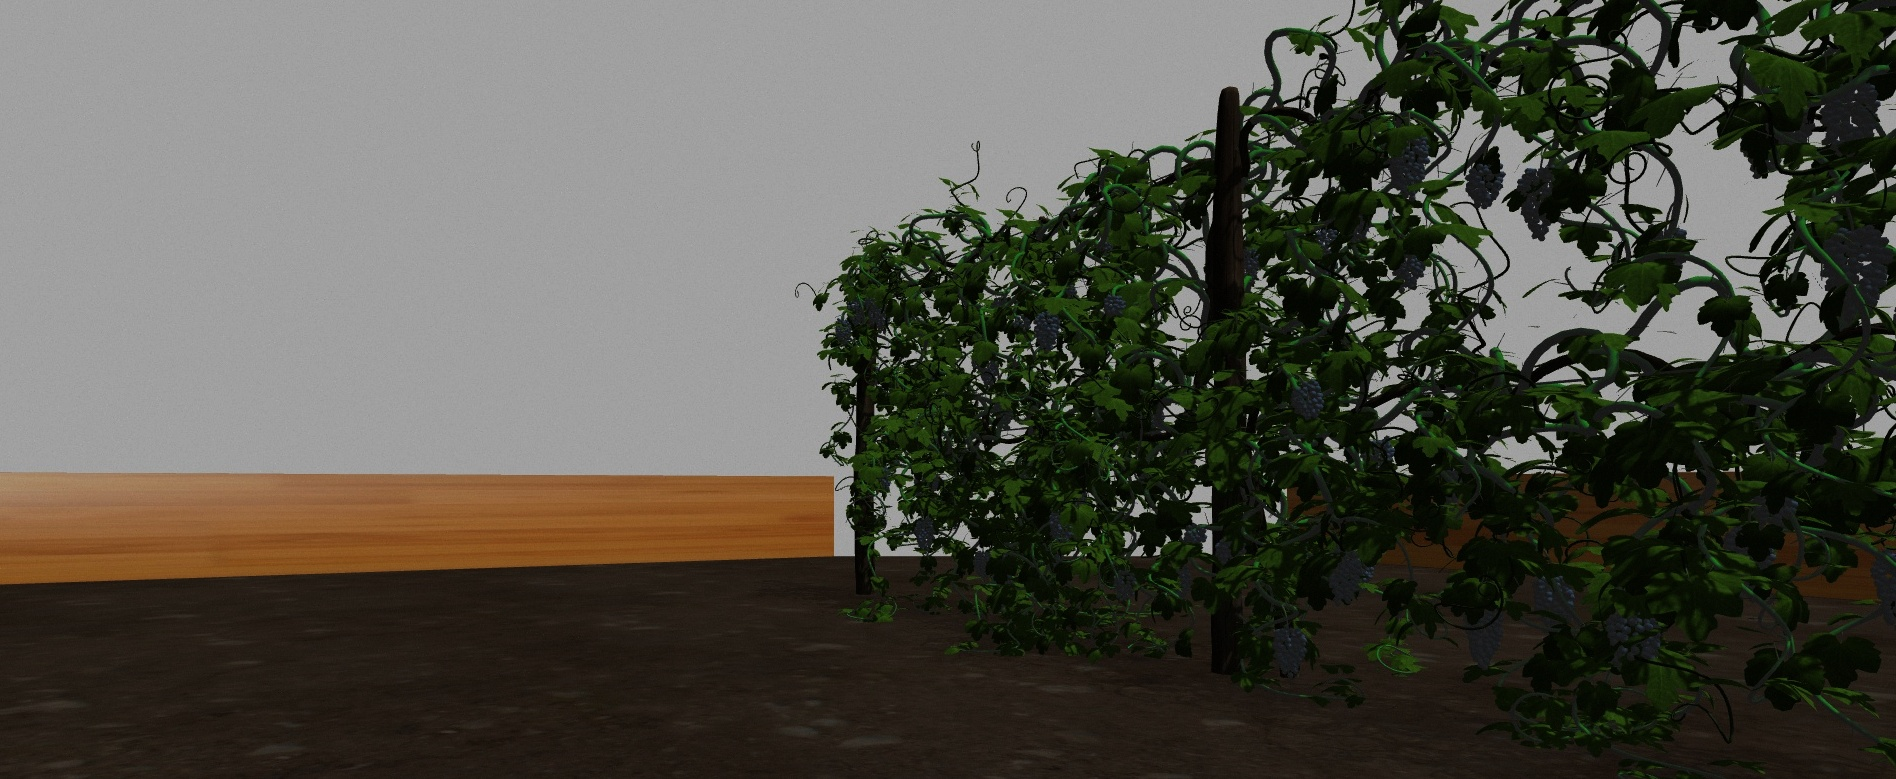grape: (1823, 225, 1891, 308), (1819, 80, 1881, 148), (1518, 165, 1557, 241), (1605, 614, 1664, 665), (1389, 131, 1430, 198), (1462, 608, 1503, 673), (1531, 572, 1576, 628), (1328, 548, 1366, 604), (1869, 550, 1895, 627), (1464, 162, 1505, 208), (1271, 625, 1307, 675), (1391, 246, 1429, 290), (1752, 494, 1798, 529), (1290, 377, 1324, 420), (1033, 313, 1057, 354), (1215, 536, 1245, 564), (1112, 569, 1135, 604), (1048, 510, 1073, 543), (915, 519, 935, 552), (973, 550, 993, 582), (865, 294, 883, 327), (1183, 523, 1207, 546), (1103, 294, 1126, 317), (1244, 249, 1260, 278), (846, 299, 863, 325), (836, 319, 852, 344), (1013, 315, 1031, 333)
